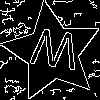W: (27, 27, 82, 80)
